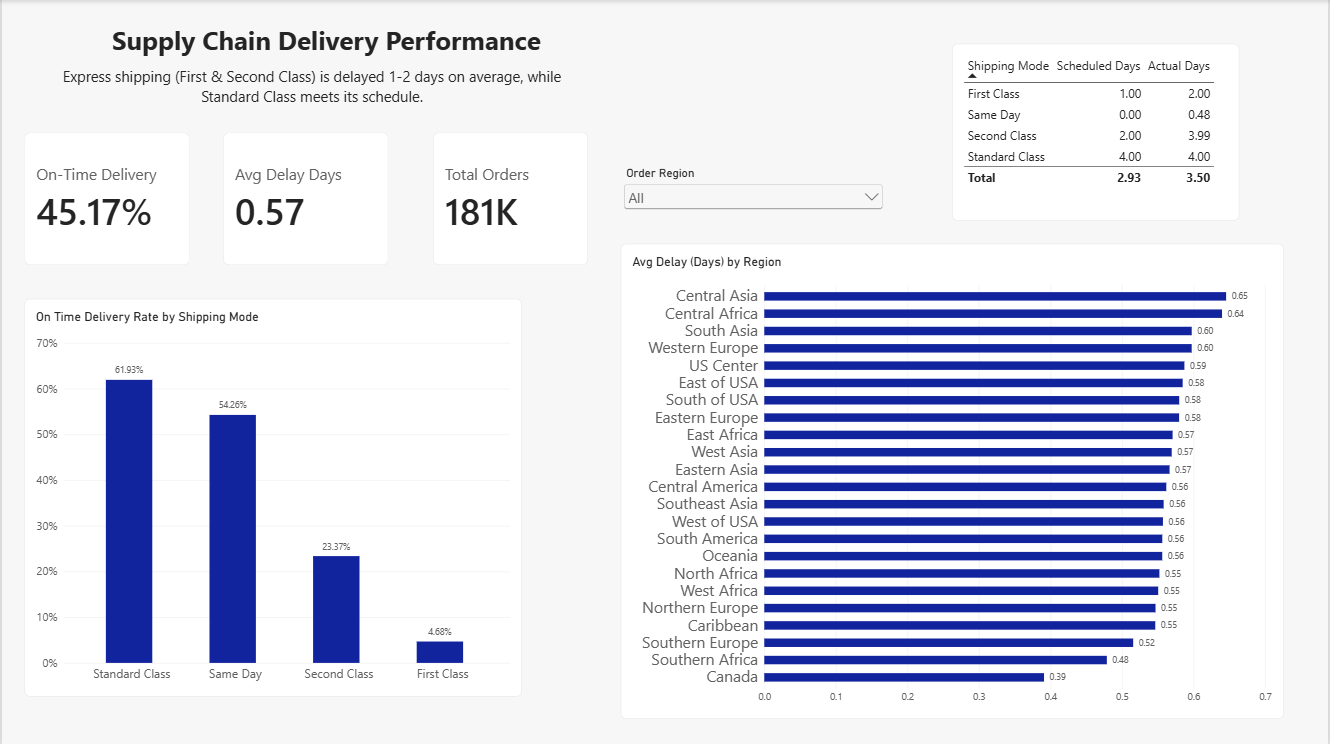

The dashboard page shown, as its layout file describes it:
{"tool":"powerbi","page":{"name":"Page 1","canvas":[1920,1080],"ordinal":0},"visuals":[{"type":"cardVisual","fields":{"Data":["DataCoSupplyChainDataset.On-Time %"]},"box":[32,192,240,192],"z":0},{"type":"cardVisual","fields":{"Data":["DataCoSupplyChainDataset.Avg Delay Days"]},"box":[320,192,240,192],"z":1000},{"type":"cardVisual","fields":{"Data":["DataCoSupplyChainDataset.Total Orders"]},"box":[624,192,224,192],"z":2000},{"type":"clusteredBarChart","title":"Avg Delay (Days) by Region","fields":{"Category":["DataCoSupplyChainDataset.Order Region"],"Y":["DataCoSupplyChainDataset.Avg Delay Days"]},"box":[896,352,960,688],"z":3000},{"type":"columnChart","title":"On Time Delivery Rate by Shipping Mode","fields":{"Category":["DataCoSupplyChainDataset.Shipping Mode"],"Y":["DataCoSupplyChainDataset.On-Time %"]},"box":[32,432,720,576],"z":4000},{"type":"tableEx","fields":{"Values":["DataCoSupplyChainDataset.Shipping Mode","Avg(DataCoSupplyChainDataset.Days for shipment (scheduled))","Avg(DataCoSupplyChainDataset.Days for shipping (real))"]},"box":[1376,64,416,256],"z":5000},{"type":"slicer","fields":{"Values":["DataCoSupplyChainDataset.Order Region"]},"box":[896,240,384,80],"z":6000},{"type":"textbox","box":[158.6,33.4,654.5,55.6],"z":7000},{"type":"textbox","box":[48,96,800,80],"z":7001}]}

Visuals, with their boxes in screenshot pixels (x1, y1, x2, y2), scaled from the page's 1920x1080 canvas onto the 1330x744 screenshot:
cardVisual - DataCoSupplyChainDataset.On-Time %: (22, 132, 188, 265)
cardVisual - DataCoSupplyChainDataset.Avg Delay Days: (222, 132, 388, 265)
cardVisual - DataCoSupplyChainDataset.Total Orders: (432, 132, 587, 265)
"Avg Delay (Days) by Region" clusteredBarChart: (621, 242, 1286, 716)
"On Time Delivery Rate by Shipping Mode" columnChart: (22, 298, 521, 694)
tableEx - DataCoSupplyChainDataset.Shipping Mode x Avg(DataCoSupplyChainDataset.Days for shipment (scheduled)): (953, 44, 1241, 220)
slicer - DataCoSupplyChainDataset.Order Region: (621, 165, 887, 220)
textbox: (110, 23, 563, 61)
textbox: (33, 66, 587, 121)
